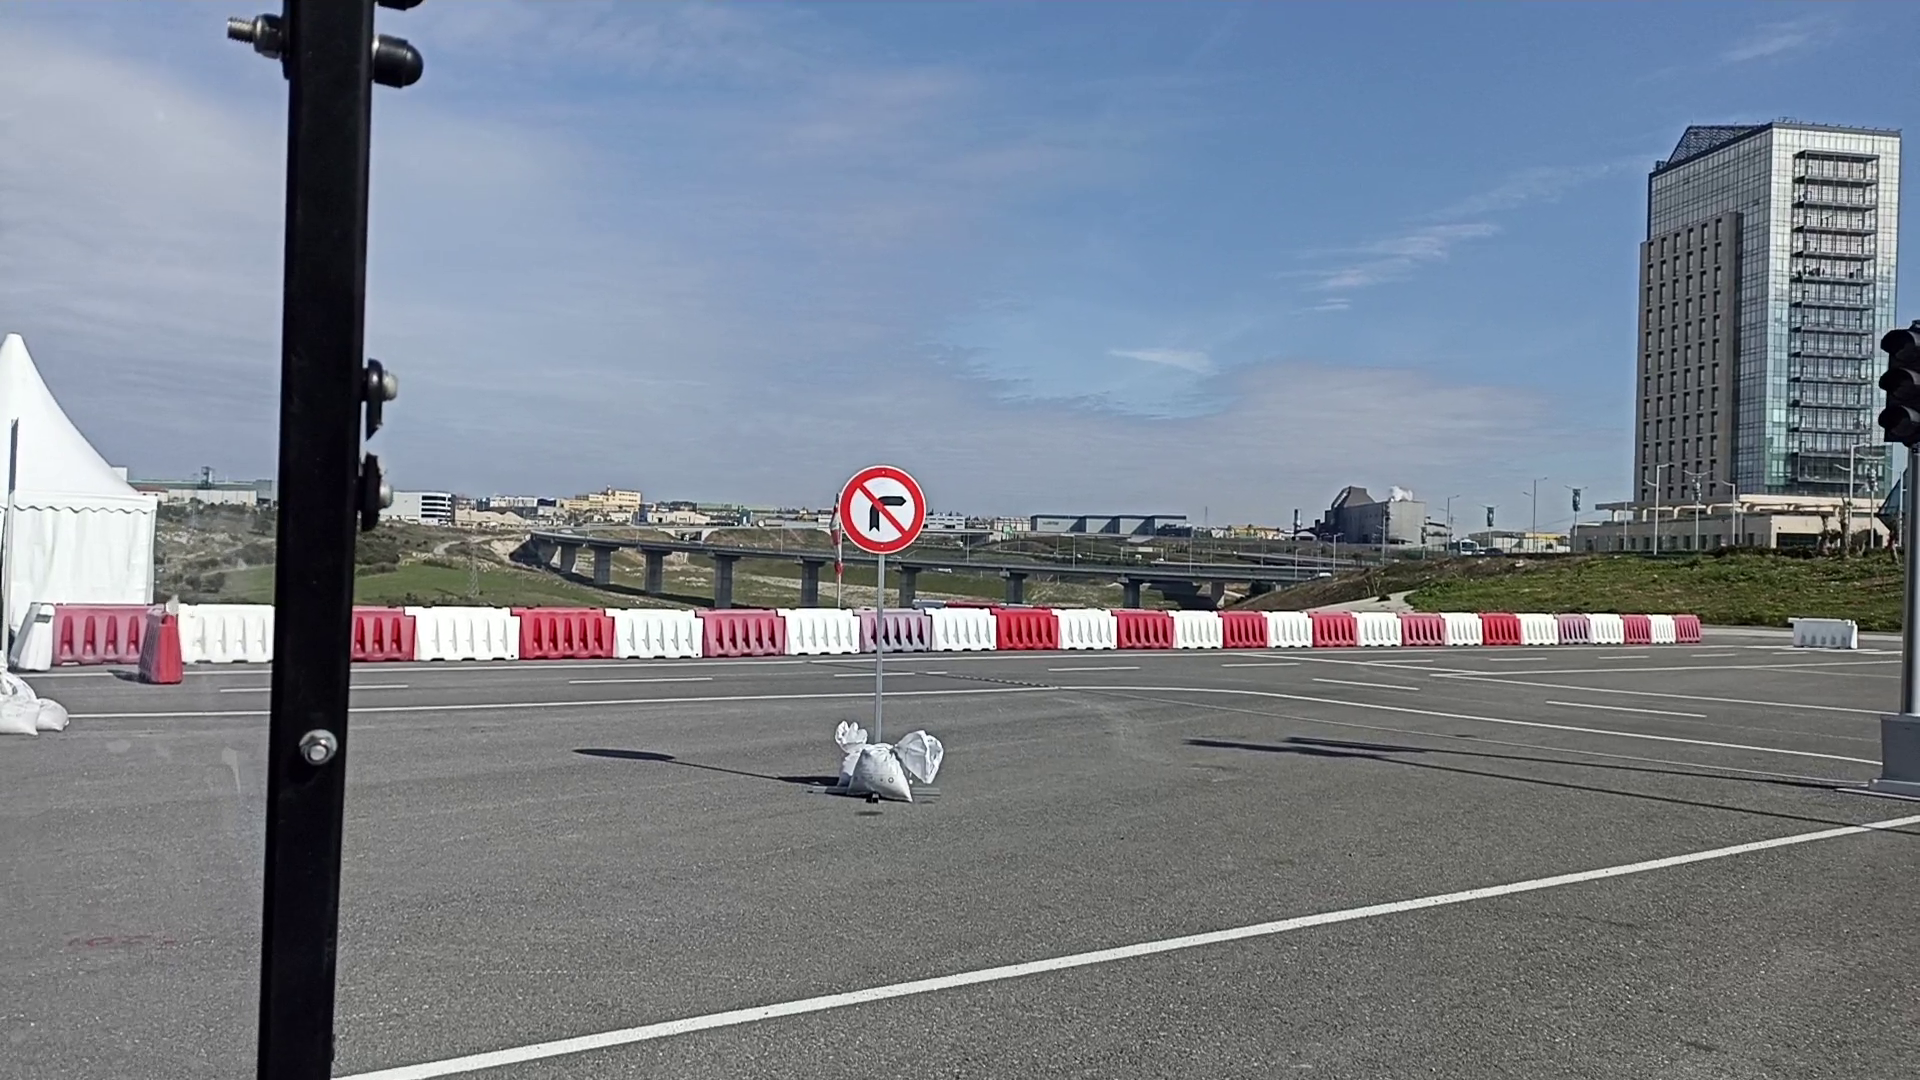noleftturn: (836, 463, 928, 558)
